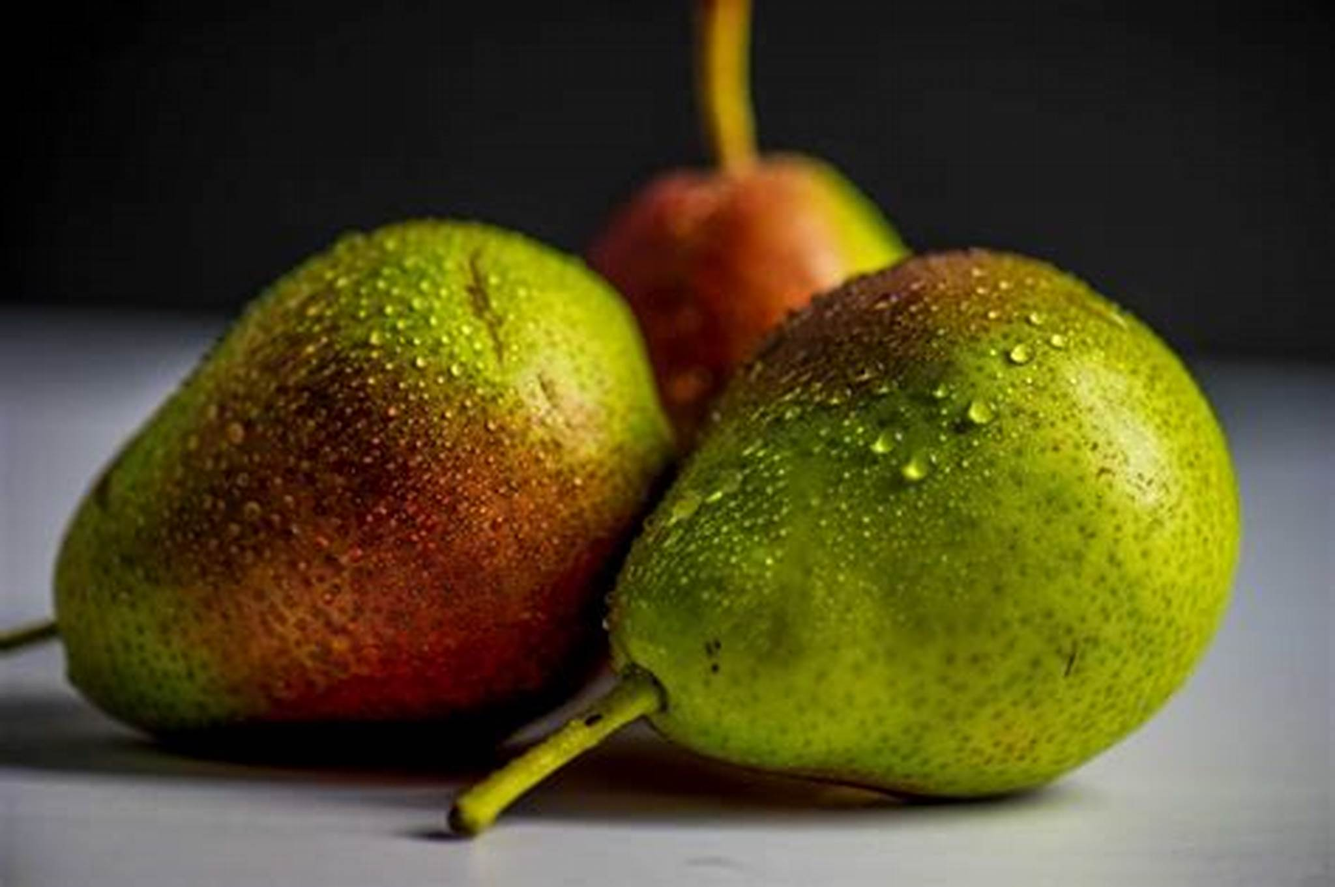not strawberry: (33, 161, 1260, 795)
